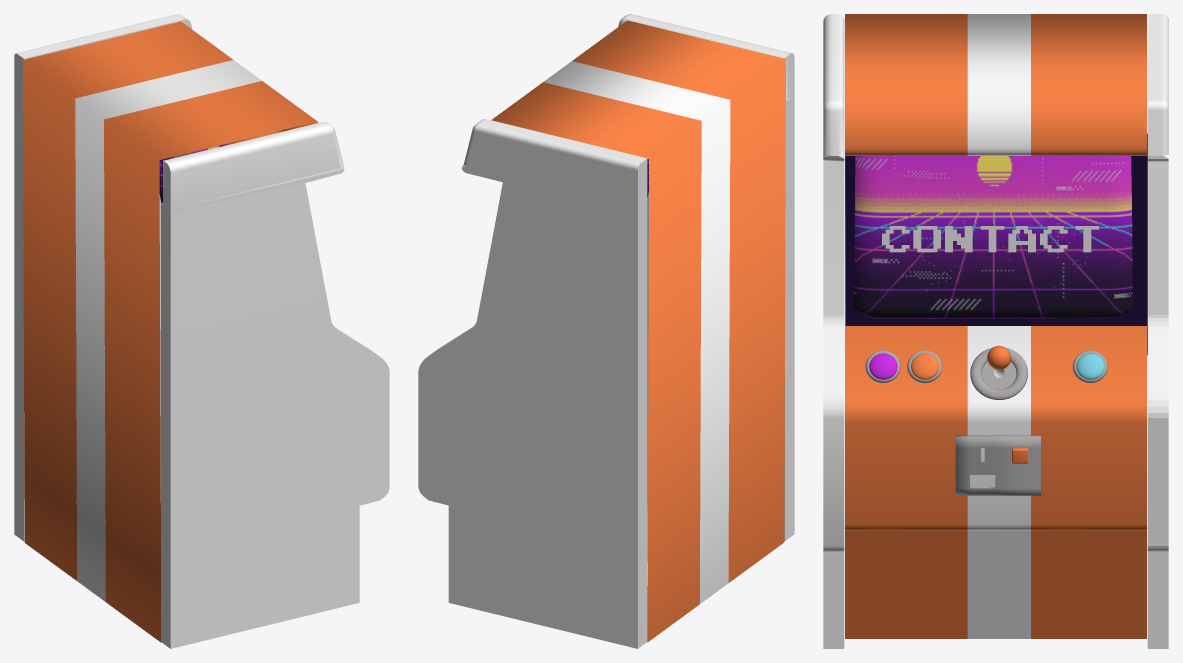
The model's file is 3dmodel647f27b3916d9arcade.glb.
The picture shows the model from 3 angles, left to right: view 1: azimuth 30°, elevation 25°; view 2: azimuth 150°, elevation 25°; view 3: azimuth 270°, elevation 25°; orthographic projection. The views are drawn at different scales.
Parts seen in each view (by area): view 1: Plane, Plane.002, Plane.001; view 2: Plane.001, Plane.002, Plane; view 3: Plane.002, Plane.004, Plane.001, Plane, Plane.003, Cube, Text, Sphere.003, Sphere.001, Sphere, Sphere.002.
Boxes of the visible parts, x1,y1,x2,y2 form: Plane: (161,122,389,648); Plane.002: (22,21,317,642); Plane.001: (14,14,192,541); Plane.001: (418,119,647,648); Plane.002: (491,20,785,642); Plane: (618,14,794,541); Plane.002: (845,14,1146,638); Plane.004: (854,156,1132,318); Plane.001: (1147,14,1168,648); Plane: (823,14,844,648); Plane.003: (845,133,1147,355); Cube: (955,435,1040,495); Text: (882,226,1098,252); Sphere.003: (970,345,1027,399); Sphere.001: (907,350,942,383); Sphere: (865,350,900,383); Sphere.002: (1072,350,1107,383).
Size of the model in its own units: 2.13 by 4.47 by 2.62.
8 materials, 1 textured.
